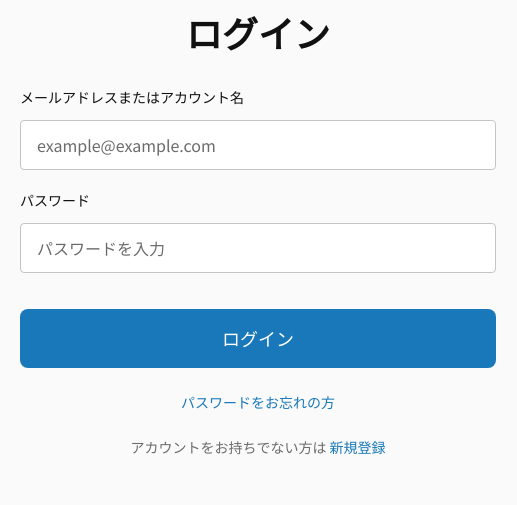
Scenario: LoginForm › メールアドレス形式不正でバリデーションエラーが表示される
In the field labelled "メールアドレスまたはアカウント名": [258, 145] box [20,120,496,170], type "invalid-email"
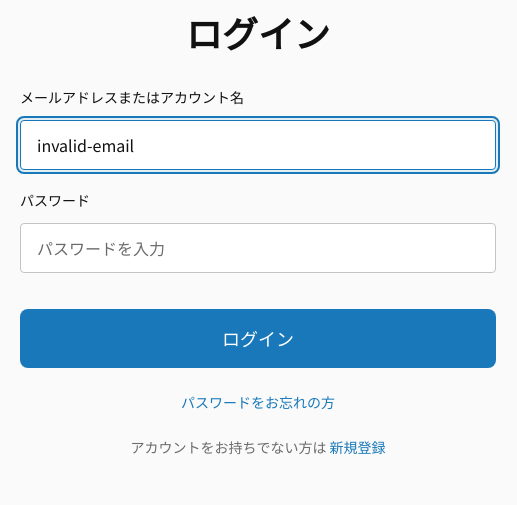
In the password field labelled "パスワード": [258, 248] box [20,223,496,273], type "Password123"
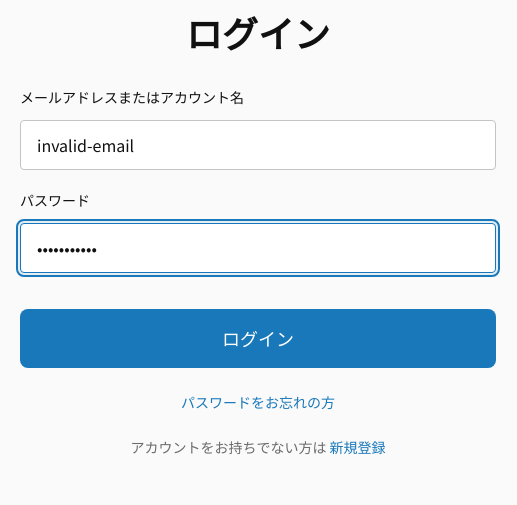
Click the button "ログイン": [258, 338] box [20,309,496,368]
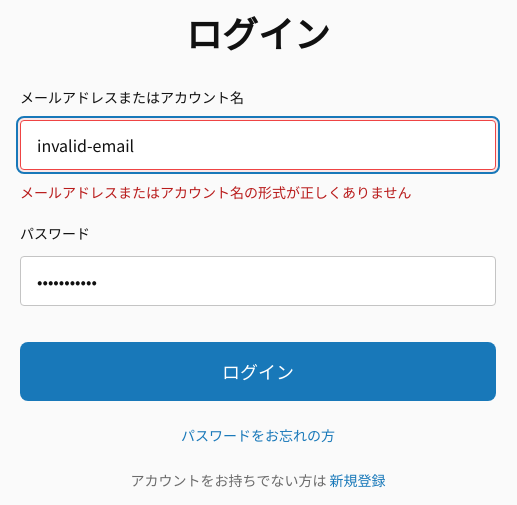
Now the text "メールアドレスまたはアカウント名の形式が正しくありません" is shown, box [20,182,412,202]
